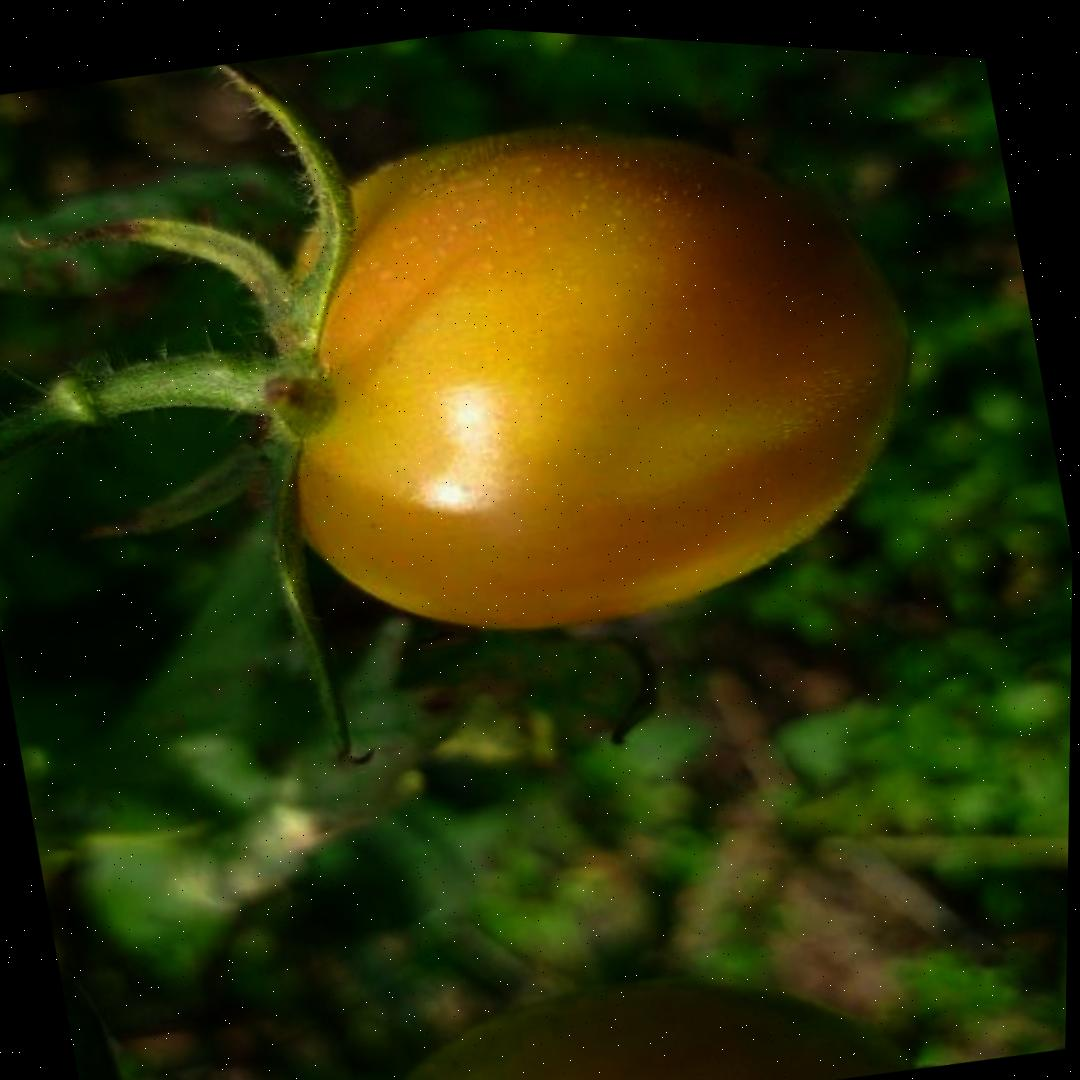setengah_matang: (208, 42, 959, 704)
